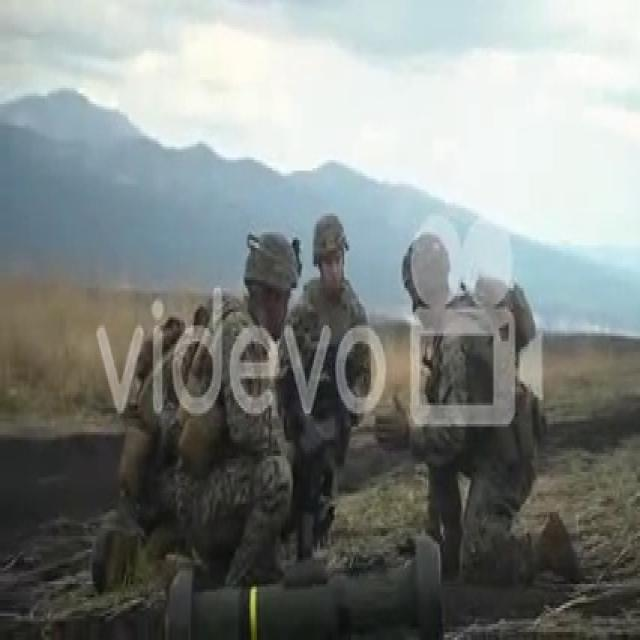bazooka: (165, 561, 450, 640)
